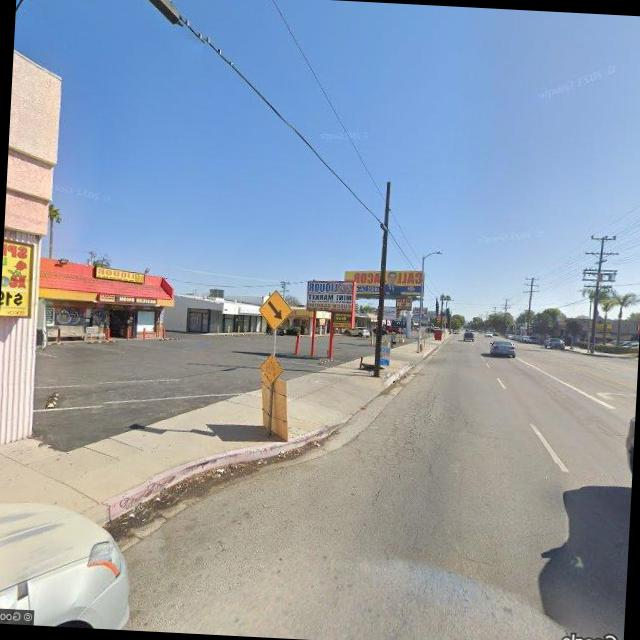crack: (361, 378, 453, 472)
